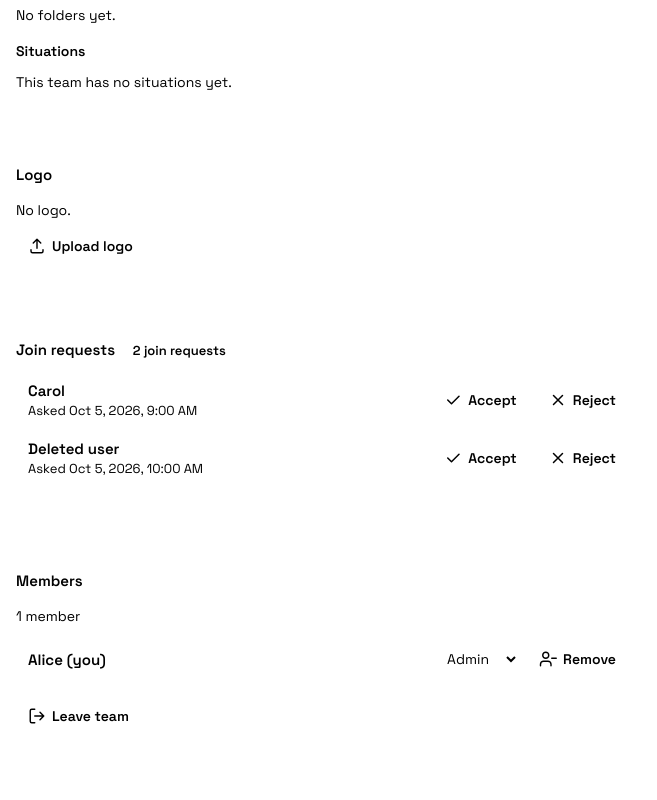
Scenario: team page › shows Admins the join requests with their count and lets them accept and reject
(page scrolled)
Expected: the element "Join requests" shows "2 join requests", [133, 342, 226, 359]
Expected: the list item "Carol Asked Oct 5, 2026, 9:00 AM Accept Reject" is shown, [16, 375, 640, 425]
Click the button with aria-label "Accept Carol" at (480, 400), box [432, 391, 529, 409]
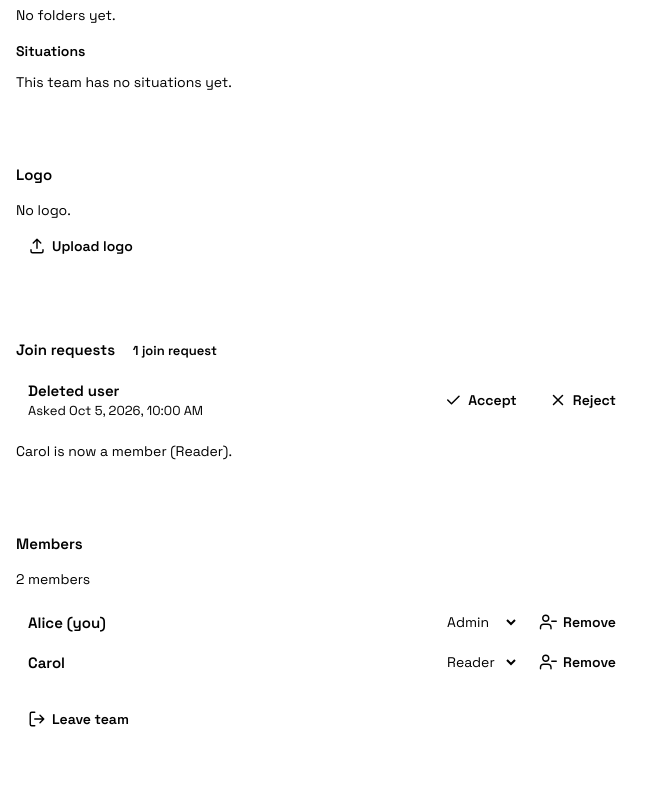
Now the message reads "Carol is now a member (Reader).", box [16, 442, 232, 460]
Now the element "Members" shows "Carol", box [28, 652, 65, 672]
Now the element "Join requests" shows "1 join request", box [133, 342, 217, 359]
Click the button with aria-label "Reject Deleted user" at (582, 400), box [537, 391, 628, 409]
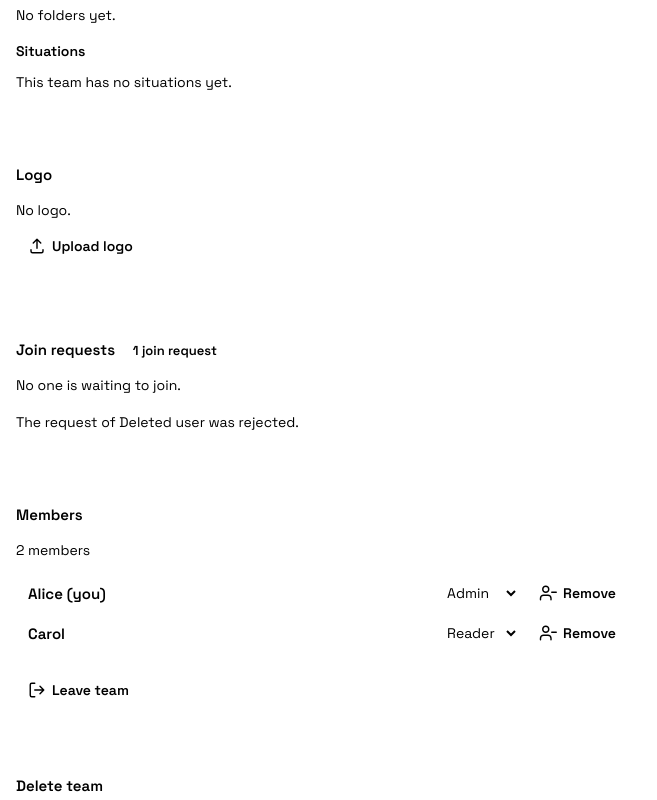
Now the element "Join requests" shows "No one is waiting to join.", box [16, 376, 181, 394]
